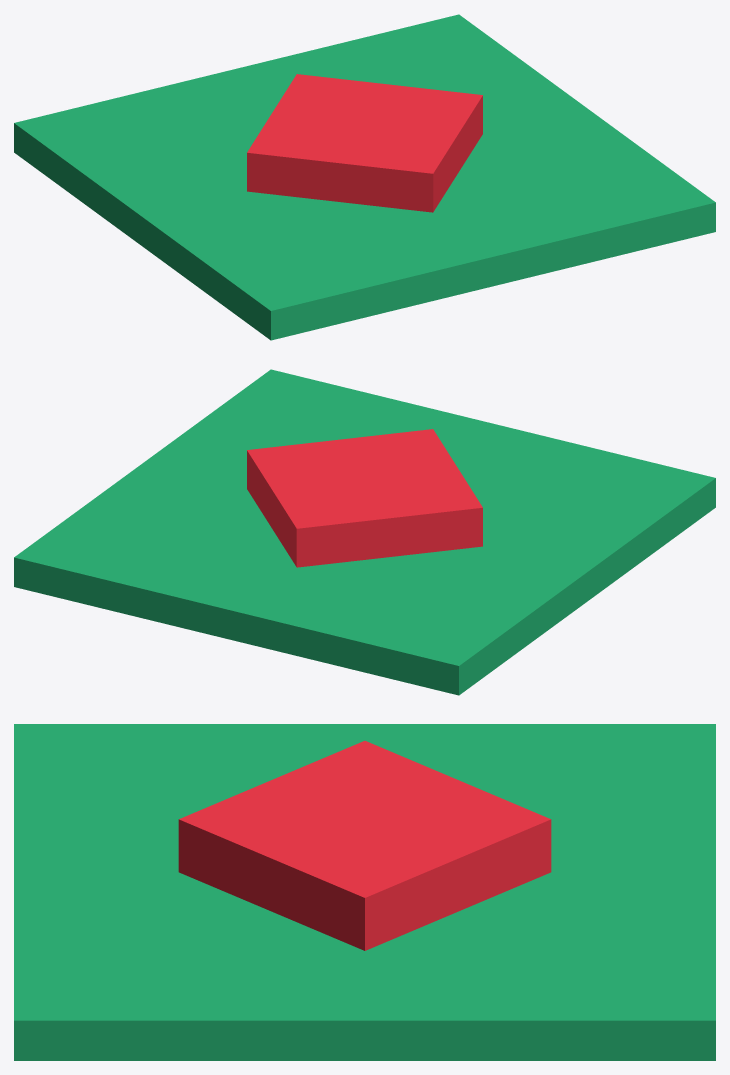
File: obstacleDiamond.fbx
The picture shows the model from 3 angles, top to bottom: view 1: azimuth 30°, elevation 25°; view 2: azimuth 150°, elevation 25°; view 3: azimuth 270°, elevation 25°; orthographic projection. The views are drawn at different scales.
Visible parts, largest first — view 1: obstacleDiamond; view 2: obstacleDiamond; view 3: obstacleDiamond.
Part boxes in pixels (x1,y1,x2,y2): obstacleDiamond: (14, 14, 715, 340); obstacleDiamond: (14, 369, 715, 695); obstacleDiamond: (14, 724, 715, 1060).
Bounding box in the file's own units: 10 × 1.47 × 10.
